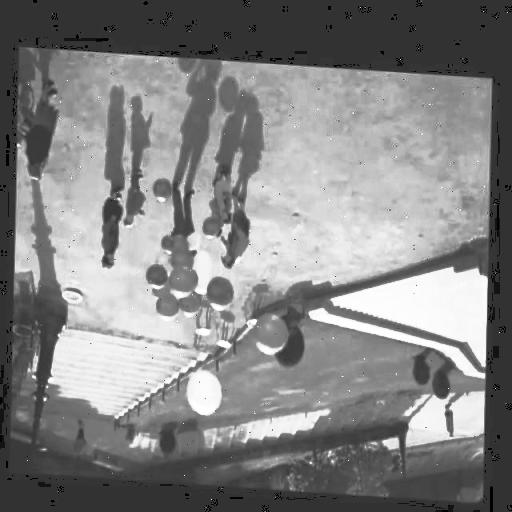balloon: (188, 365, 224, 413), (253, 306, 290, 352), (207, 272, 233, 306), (169, 266, 198, 294), (180, 288, 202, 315), (157, 292, 179, 318), (155, 248, 174, 274), (192, 246, 210, 271), (147, 263, 168, 284), (154, 176, 172, 200), (204, 210, 219, 236), (172, 247, 194, 264), (185, 228, 201, 248), (172, 231, 188, 251), (152, 282, 170, 296), (162, 230, 175, 248)
